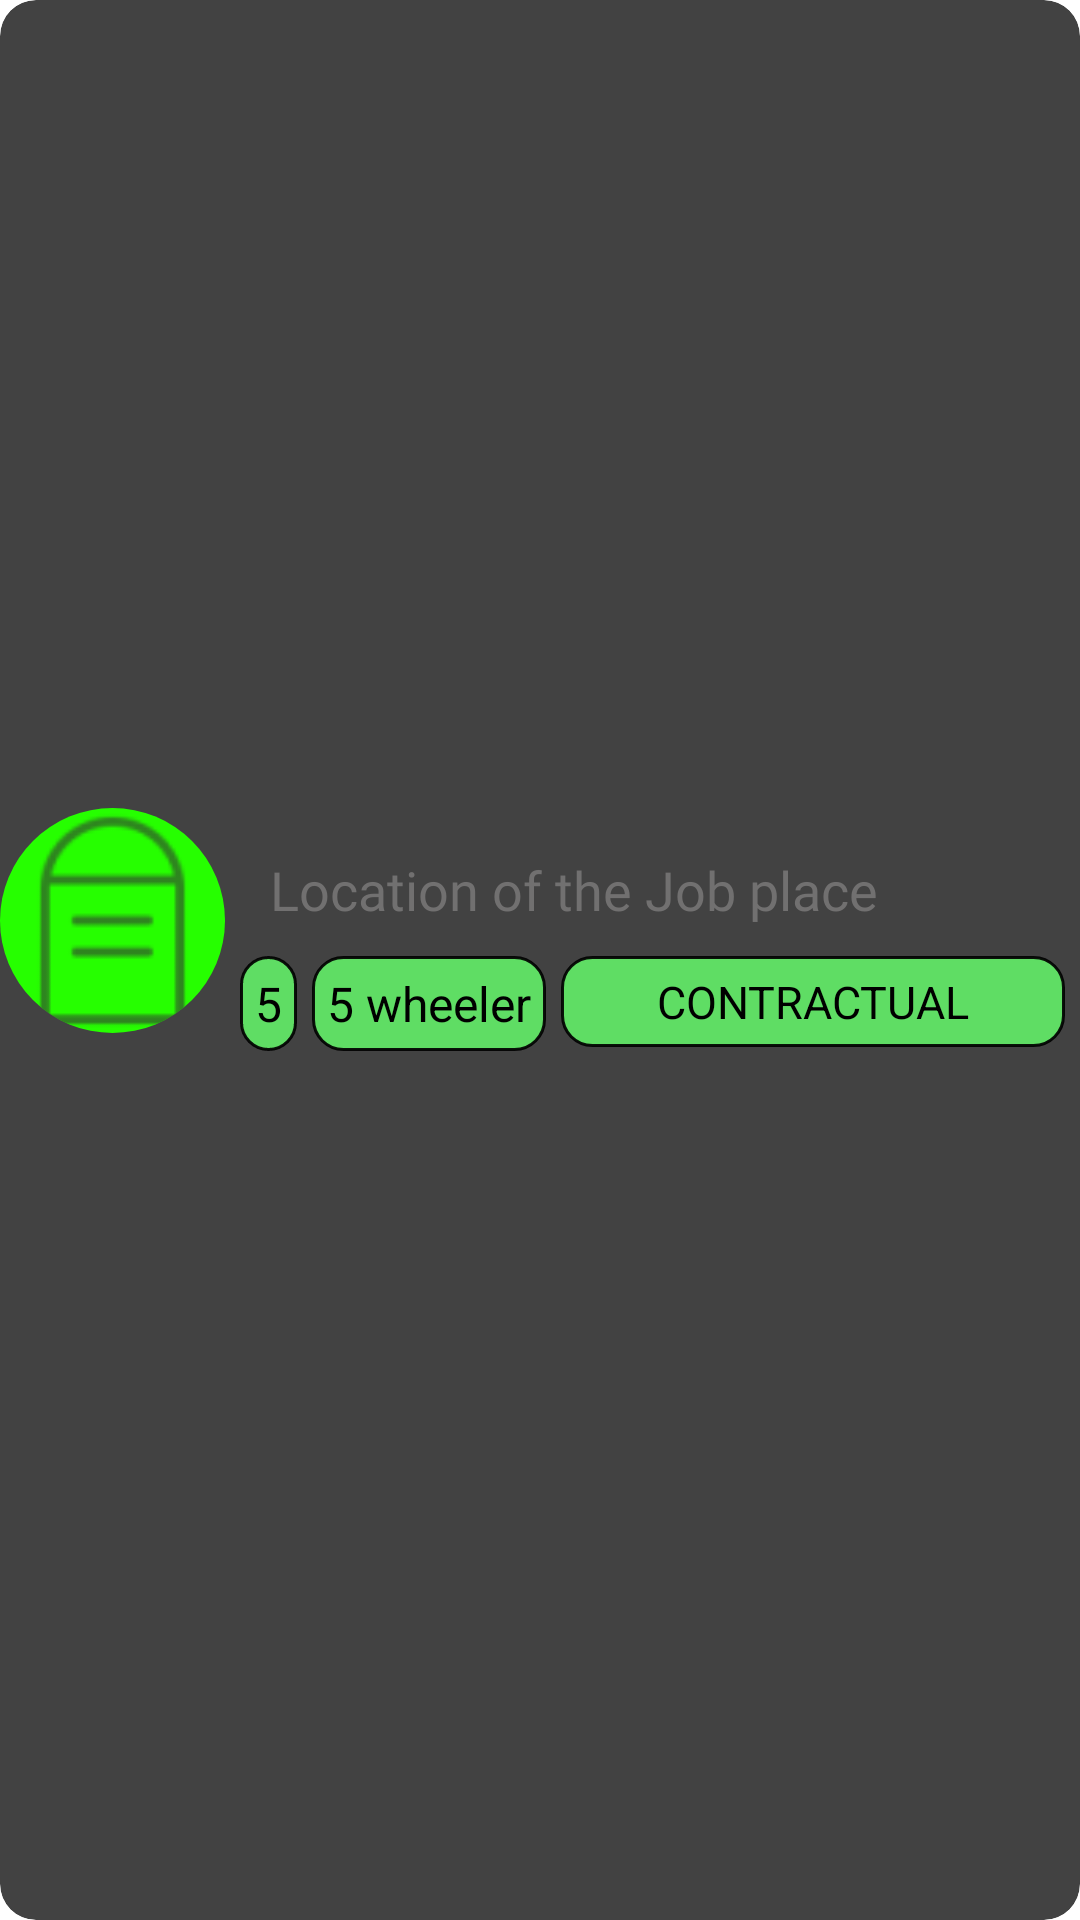

Icons on this 1080×1920 Android screen, each with the point to tap as (x,y):
milestone: (112,920)
